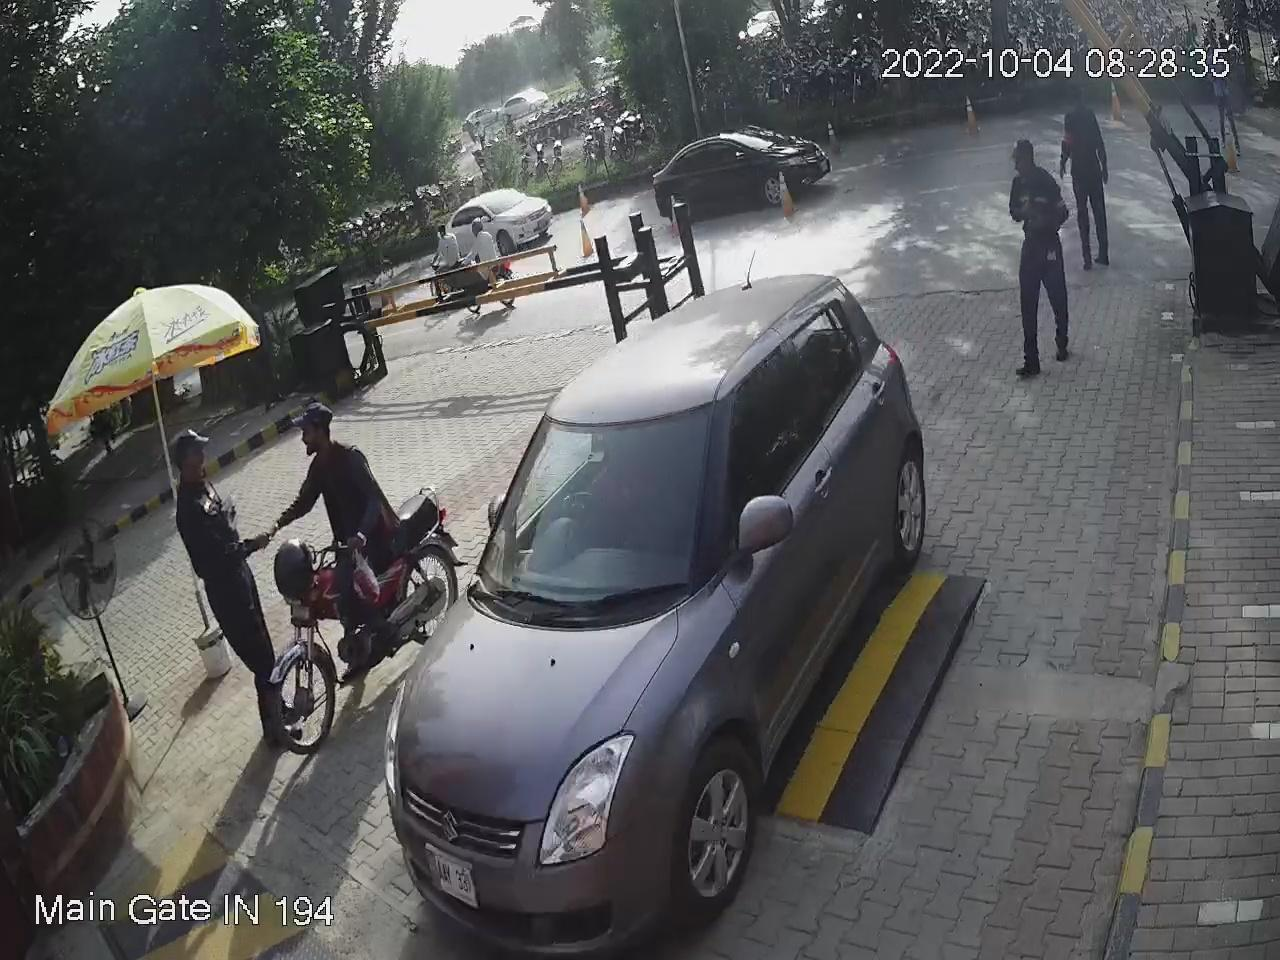windshield: (468, 395, 723, 615)
